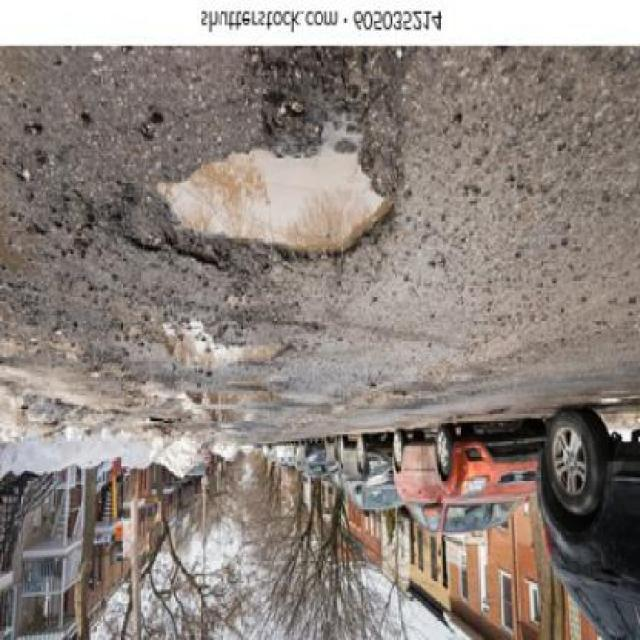pothole: (144, 110, 412, 284)
